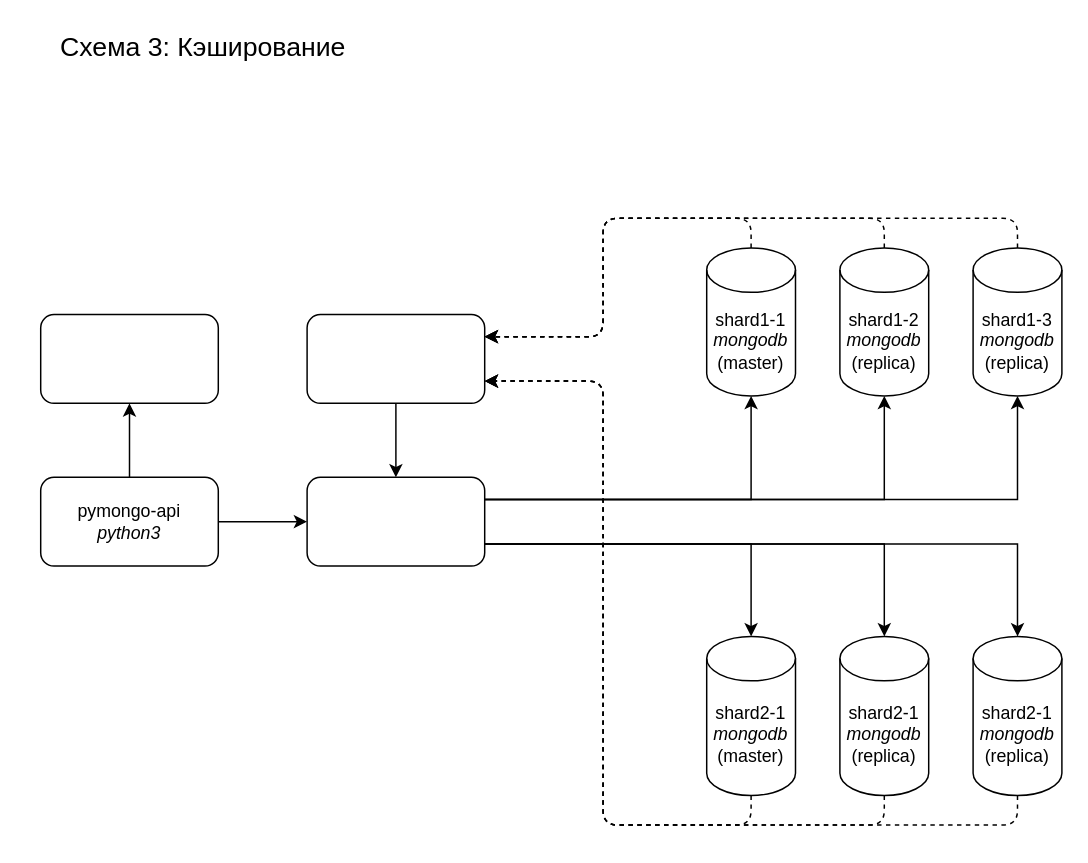
This 1088x863 diagram has some shape labels left out. Here are the shapes that lost their labels. From the top down, the centre of each, then its label:
(128,358): redis
(395,358): configSrv mongodb
(395,521): mongos1 mongodb
